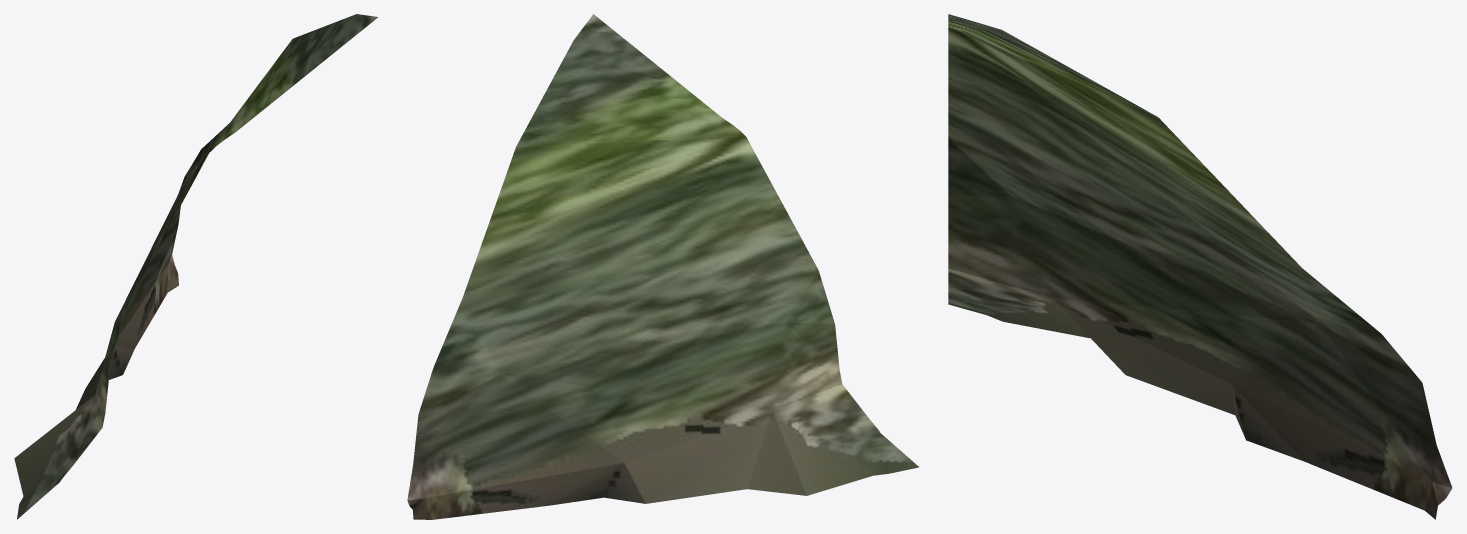
3 views of the same model, side by side, from view 1: azimuth 30°, elevation 25°; view 2: azimuth 150°, elevation 25°; view 3: azimuth 270°, elevation 25° (orthographic). The views are drawn at different scales.
Bounding box in the file's own units: 1.7 × 1.86 × 1.68.
1 material, 1 textured.
